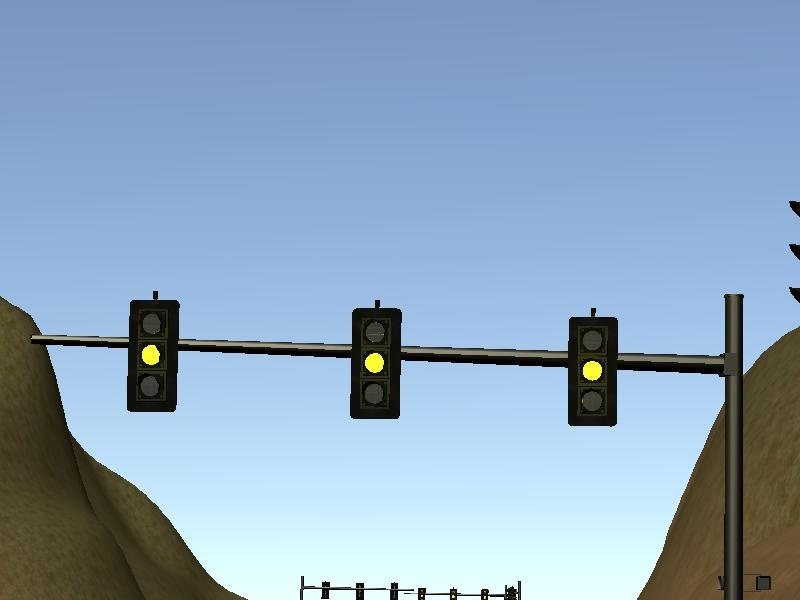YELLOW: (347, 306, 403, 422), (564, 313, 620, 429), (124, 297, 180, 413)
